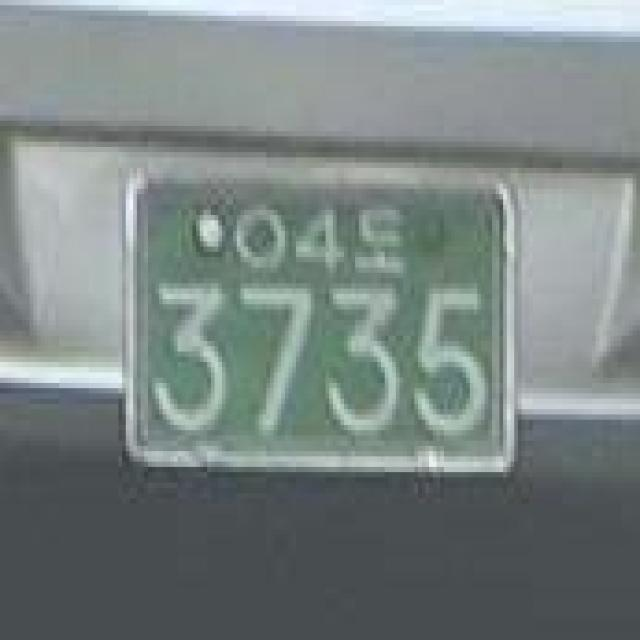illegal_plate: (109, 148, 533, 502)
